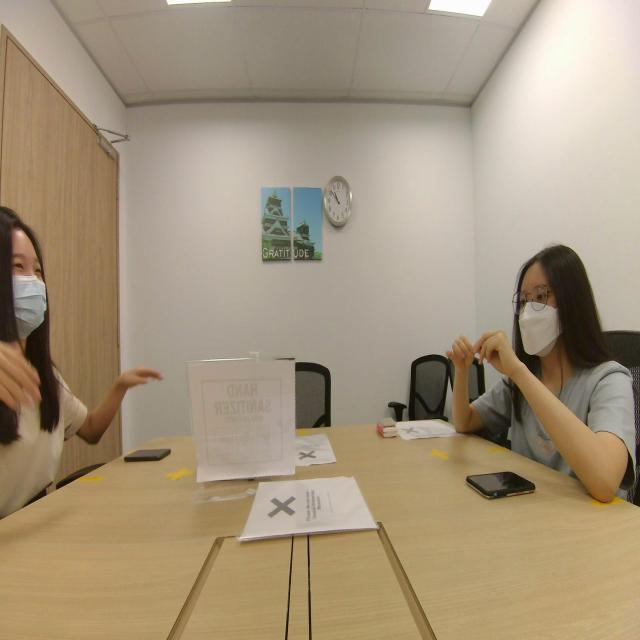obstacle: (470, 233, 634, 463), (0, 184, 75, 492)
